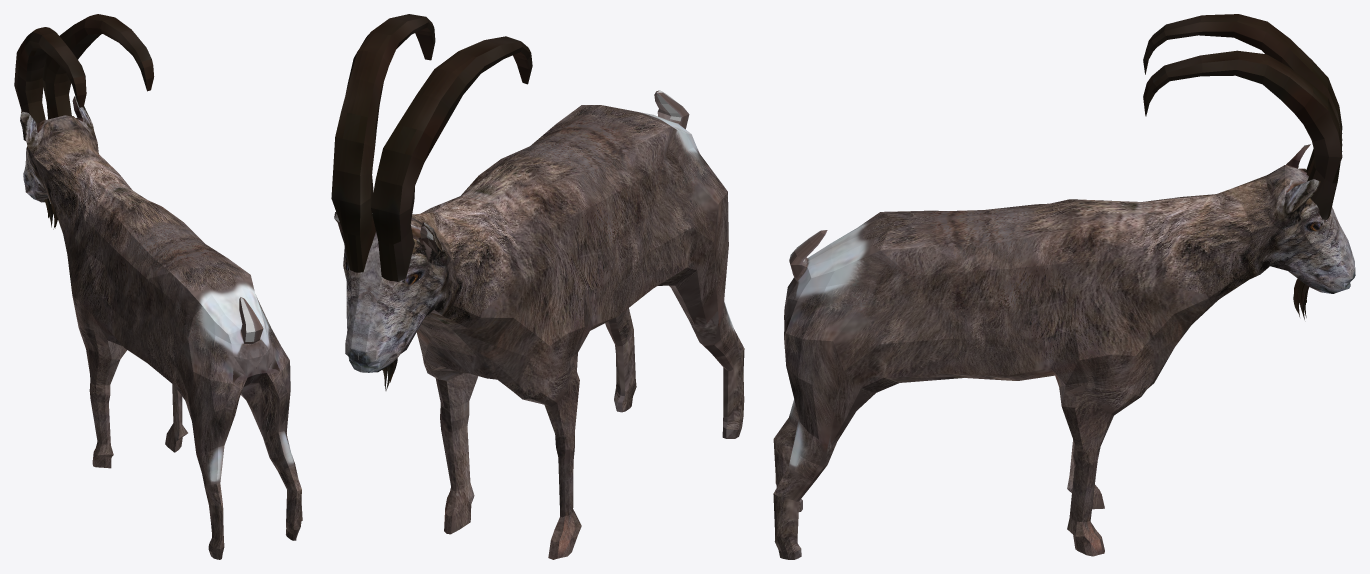
Rendered from goat.fbx.
3 views of the same model, side by side, from view 1: azimuth 30°, elevation 25°; view 2: azimuth 150°, elevation 25°; view 3: azimuth 270°, elevation 25° (orthographic). The views are drawn at different scales.
Parts seen in each view (by area): view 1: goat, horns; view 2: goat, horns; view 3: goat, horns.
Part boxes in pixels (x1,y1,x2,y2): goat: [20, 96, 302, 559]; horns: [14, 14, 154, 123]; goat: [334, 90, 744, 559]; horns: [331, 14, 532, 281]; goat: [773, 144, 1355, 559]; horns: [1143, 14, 1342, 219].
Bounding box in the file's own units: 137 × 512 × 540.
Materials: 3 (3 with a texture image).
